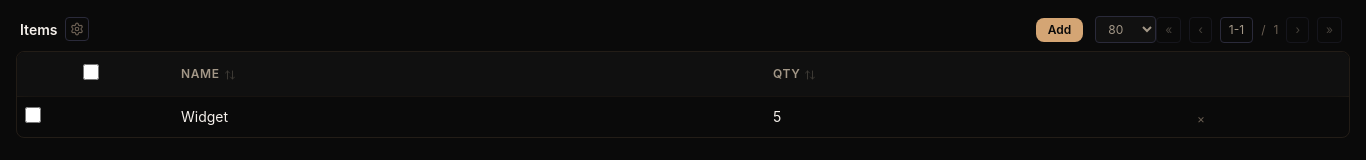
OdooListRenderer — inline editing › clicking row in editable list enters edit mode
This screenshot has width=1366, height=160.
Check: the text "Widget" is shown, box [165,96,757,137]
Click the text "Widget": point(205, 116) [17,96,1349,137]
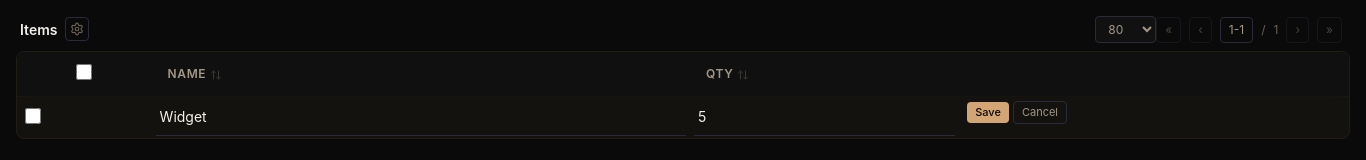
Check: the button "Save" is shown, box [967,102,1009,122]
Check: the button "Cancel" is shown, box [1013,101,1067,124]
